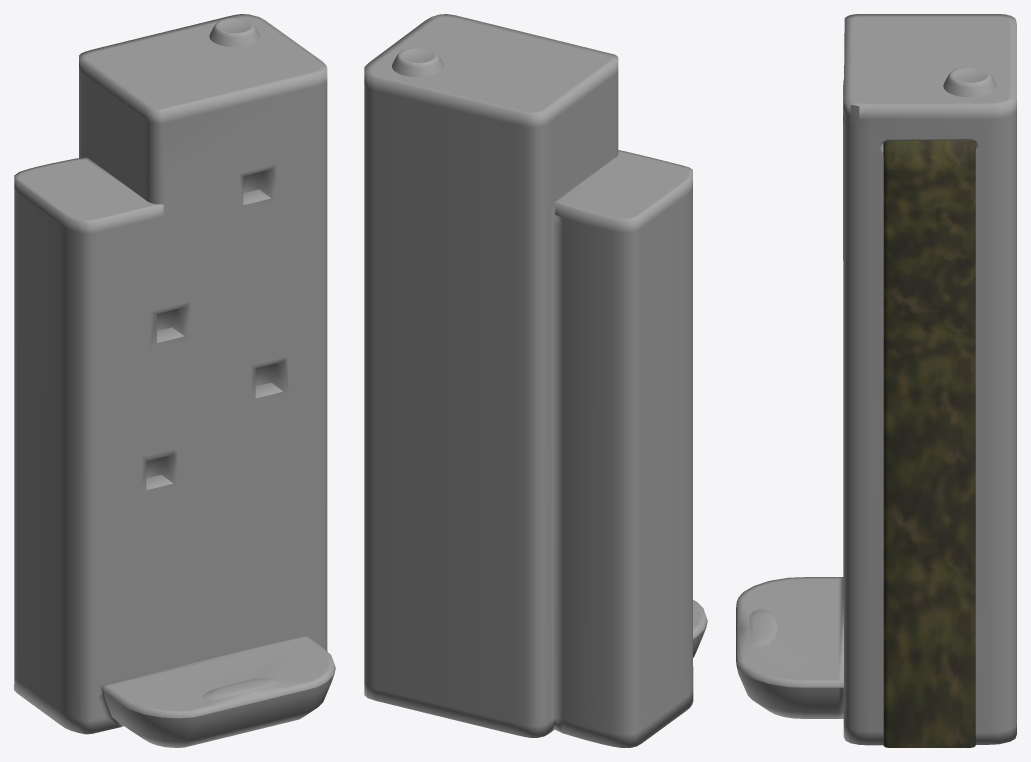
The model's file is YoshiHighlandMountainPlanet.obj.
3 views of the same model, side by side, from view 1: azimuth 30°, elevation 25°; view 2: azimuth 150°, elevation 25°; view 3: azimuth 270°, elevation 25° (orthographic). The views are drawn at different scales.
Parts seen in each view (by area): view 1: Plane.001_Plane.053, Plane.003_Plane.054, Plane.000_Plane.052, Plane.002_Plane.046; view 2: Plane.001_Plane.053, Plane.003_Plane.054, Plane.002_Plane.046, Plane.000_Plane.052; view 3: Plane.001_Plane.053, Plane.005_Plane.056, Plane.003_Plane.054, Plane.002_Plane.046, Plane.000_Plane.052.
Part boxes in pixels (x1,y1,x2,y2): Plane.001_Plane.053: (14, 70, 335, 747); Plane.003_Plane.054: (14, 14, 335, 718); Plane.000_Plane.052: (75, 171, 280, 700); Plane.002_Plane.046: (209, 18, 259, 47); Plane.001_Plane.053: (364, 72, 707, 747); Plane.003_Plane.054: (364, 14, 707, 638); Plane.002_Plane.046: (392, 47, 444, 77); Plane.000_Plane.052: (582, 171, 629, 196); Plane.001_Plane.053: (737, 105, 1016, 745); Plane.005_Plane.056: (883, 140, 975, 747); Plane.003_Plane.054: (736, 14, 1016, 687); Plane.002_Plane.046: (943, 66, 996, 97); Plane.000_Plane.052: (749, 609, 777, 646).
Size of the model in its own units: 2621 by 5749 by 2252.
Materials: 5 (1 with a texture image).
